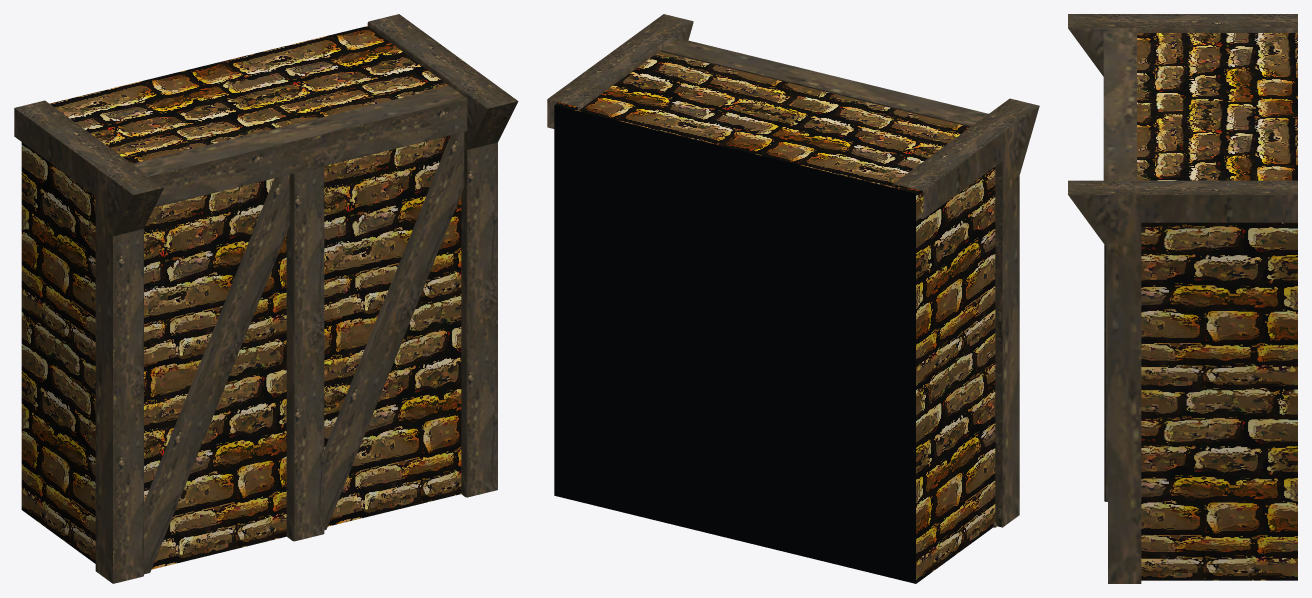
File: stoneWallE.fbx
3 renders of one model, left to right at view 1: azimuth 30°, elevation 25°; view 2: azimuth 150°, elevation 25°; view 3: azimuth 270°, elevation 25°, orthographic. The views are drawn at different scales.
Parts seen in each view (by area): view 1: stoneWallE; view 2: stoneWallE; view 3: stoneWallE.
Part boxes in pixels (x1=…): stoneWallE: x1=14, y1=14, x2=518, y2=583; stoneWallE: x1=547, y1=14, x2=1039, y2=583; stoneWallE: x1=1068, y1=14, x2=1297, y2=583.
Bounding box in the file's own units: 300 × 301 × 161.
